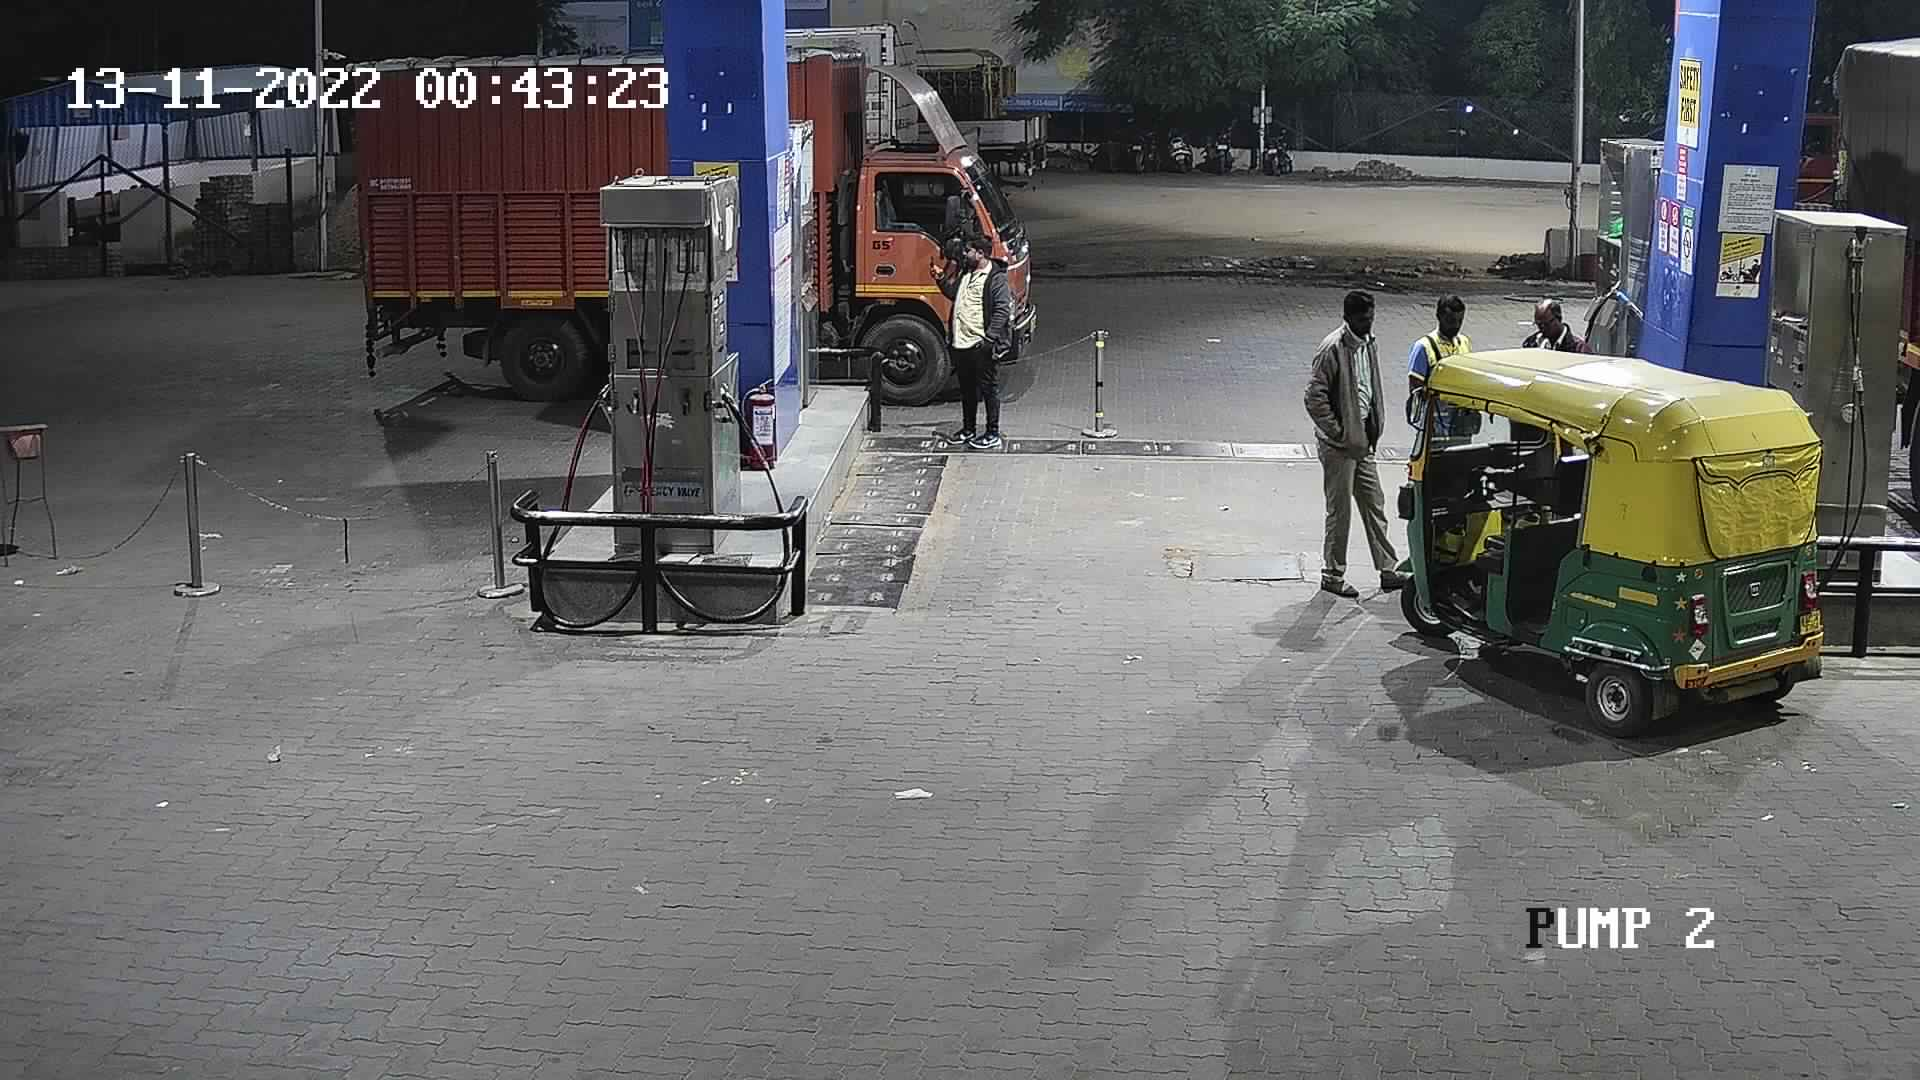Auto: (1390, 319, 1829, 731)
Bike: (1116, 116, 1164, 181), (1251, 123, 1299, 182), (1154, 116, 1200, 175), (1197, 120, 1242, 177)
HMV: (324, 26, 675, 411), (1775, 15, 1917, 541), (885, 32, 1062, 200)
Others: (1393, 286, 1484, 400)
